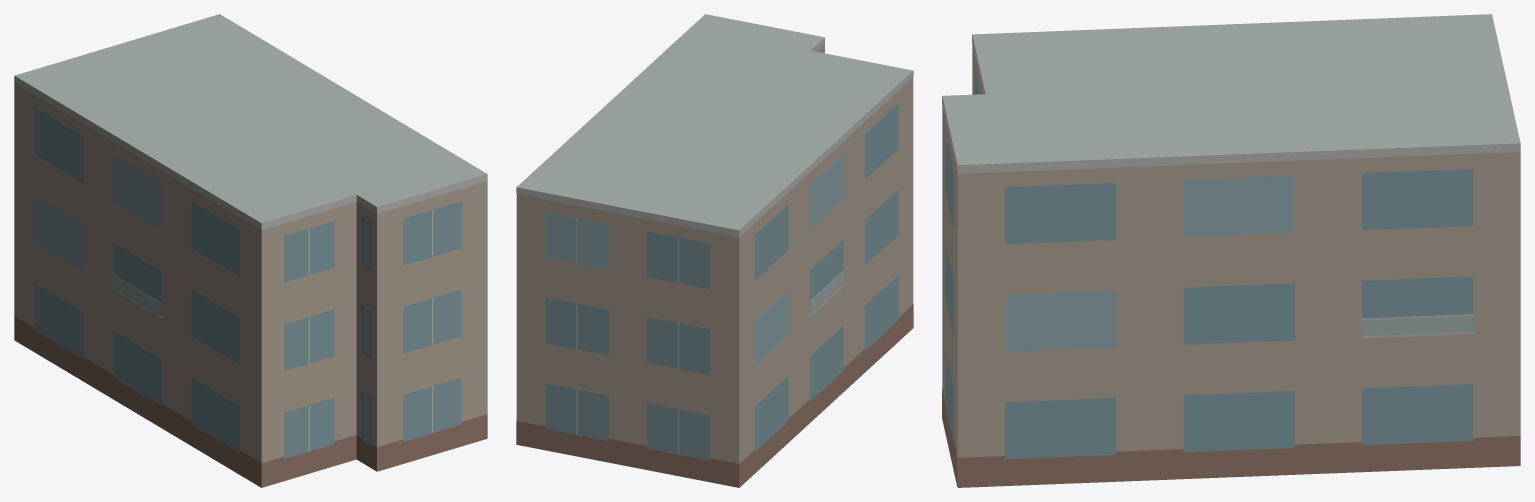
File: survey-upis-32804435.glb
3 renders of one model, left to right at view 1: azimuth 30°, elevation 25°; view 2: azimuth 150°, elevation 25°; view 3: azimuth 270°, elevation 25°, orthographic. The views are drawn at different scales.
Visible parts, largest first — view 1: survey-upis-32804435.tmp; view 2: survey-upis-32804435.tmp; view 3: survey-upis-32804435.tmp.
Boxes of the visible parts, left/top/right/bottom form: survey-upis-32804435.tmp: left=14, top=14, right=487, bottom=487; survey-upis-32804435.tmp: left=516, top=14, right=913, bottom=487; survey-upis-32804435.tmp: left=942, top=14, right=1520, bottom=487.
Size of the model in its own units: 9.21 by 9.15 by 14.88.
